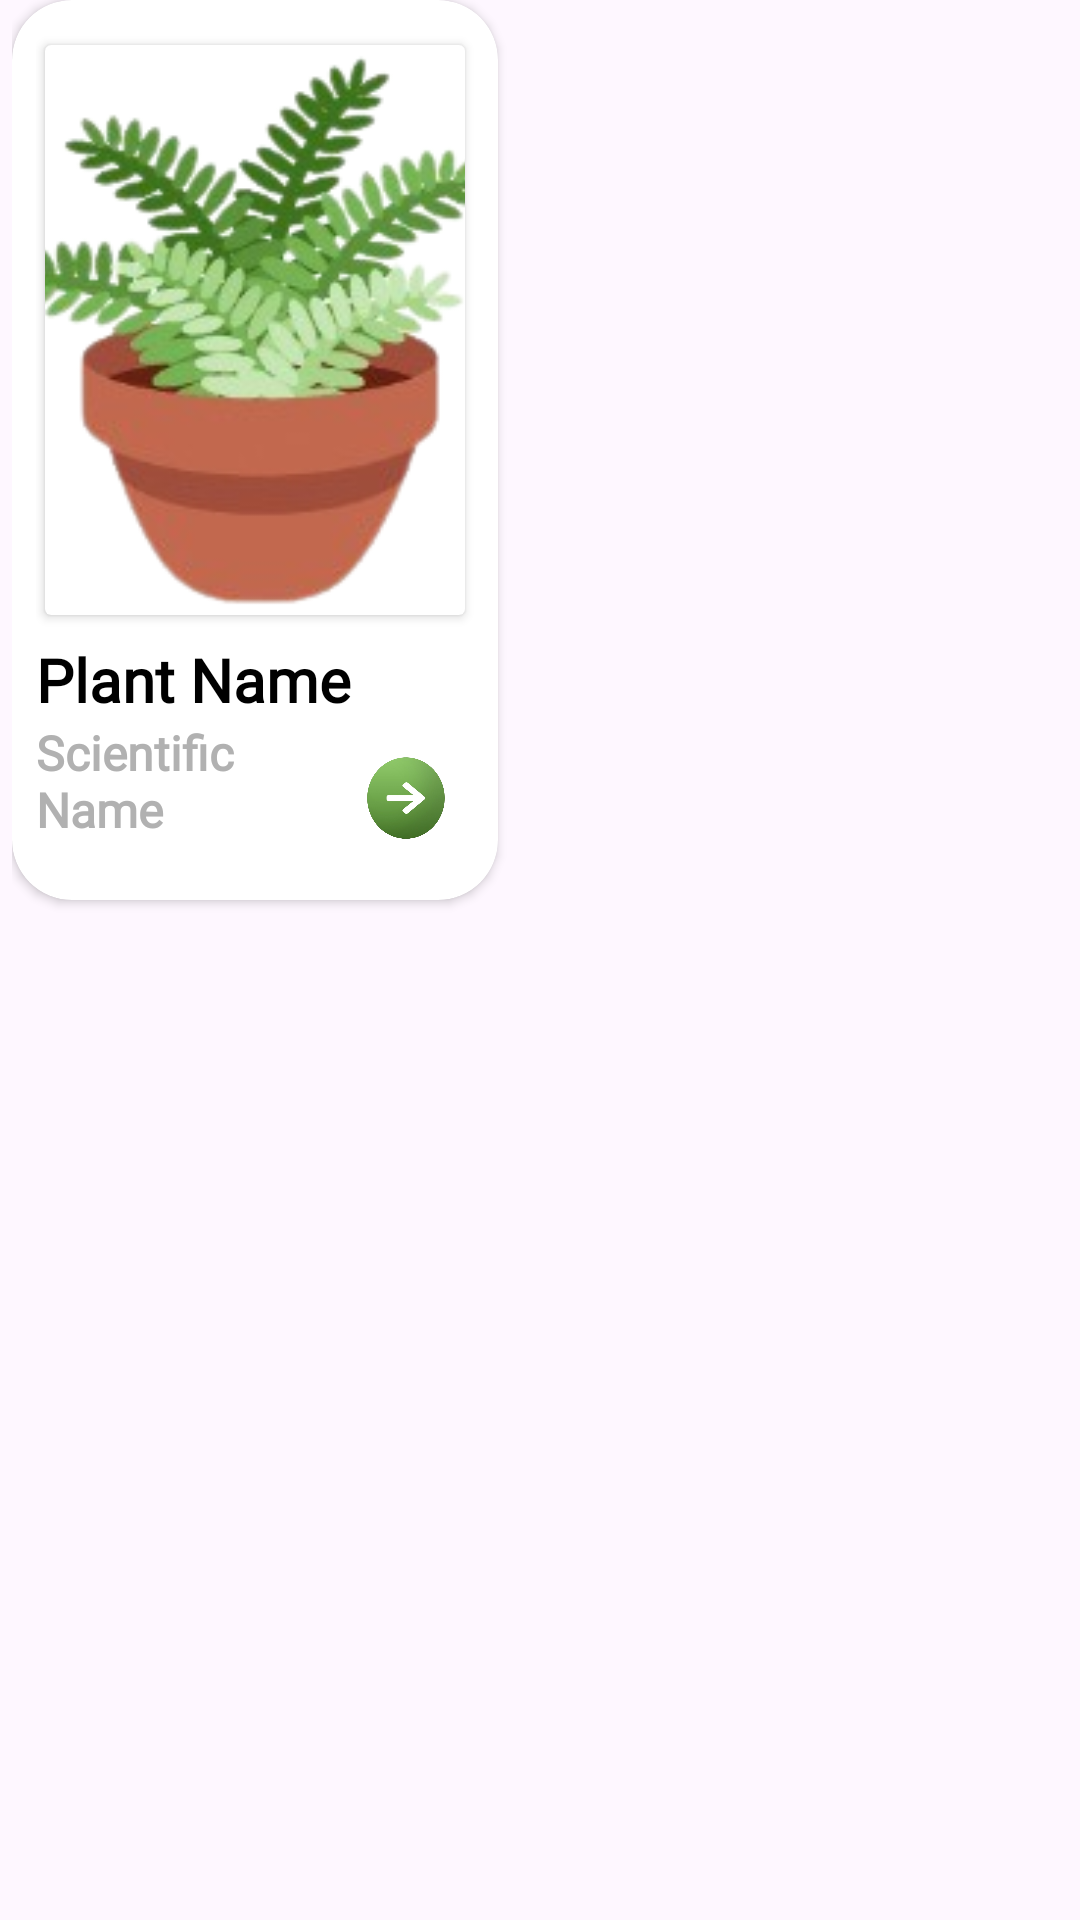

Screen size 1080×1920. Icon name, then its box in pixels as [x1, y1, x2, y2]:
plant arrow: [367, 757, 445, 839]
